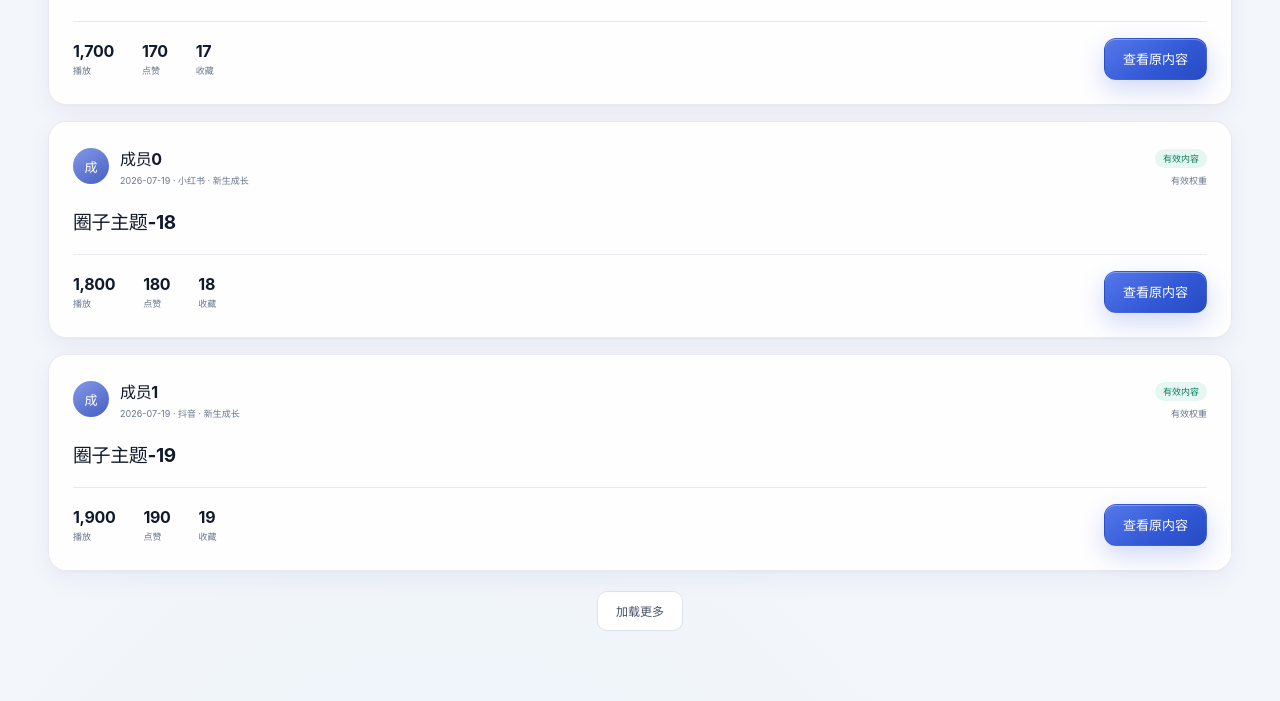
Test: large mocked workflow views › pages through all 120 public circle posts without dropping older content
(page scrolled)
Click the button with class "secondary-button": (640, 611) [597,591,683,631]
(page scrolled)
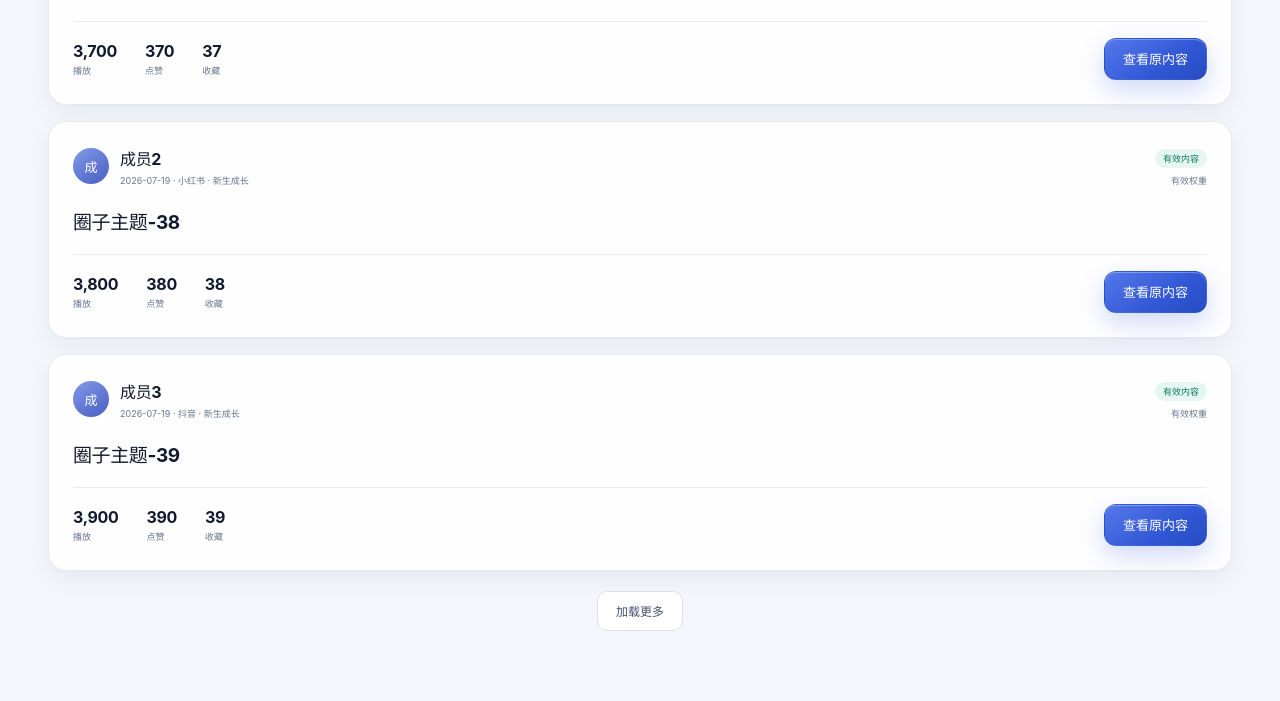
Click the button with class "secondary-button": (640, 611) [597,591,683,631]
(page scrolled)
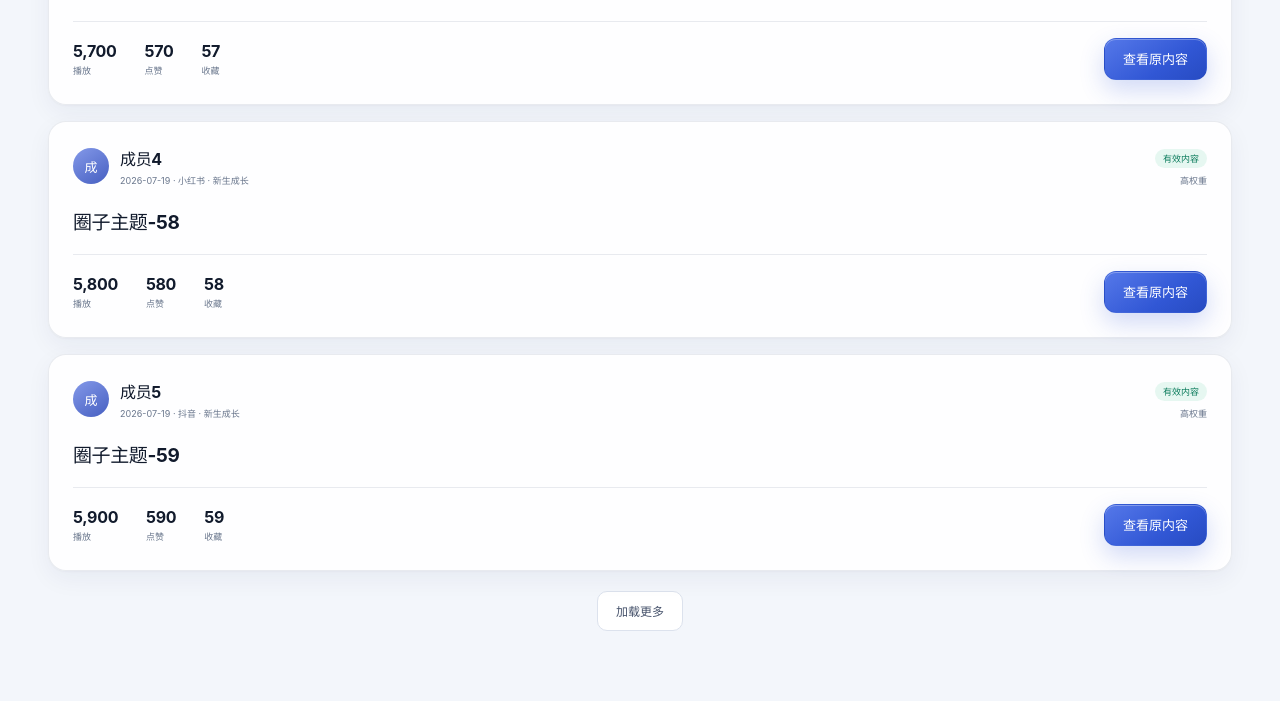
Click the button with class "secondary-button": (640, 611) [597,591,683,631]
(page scrolled)
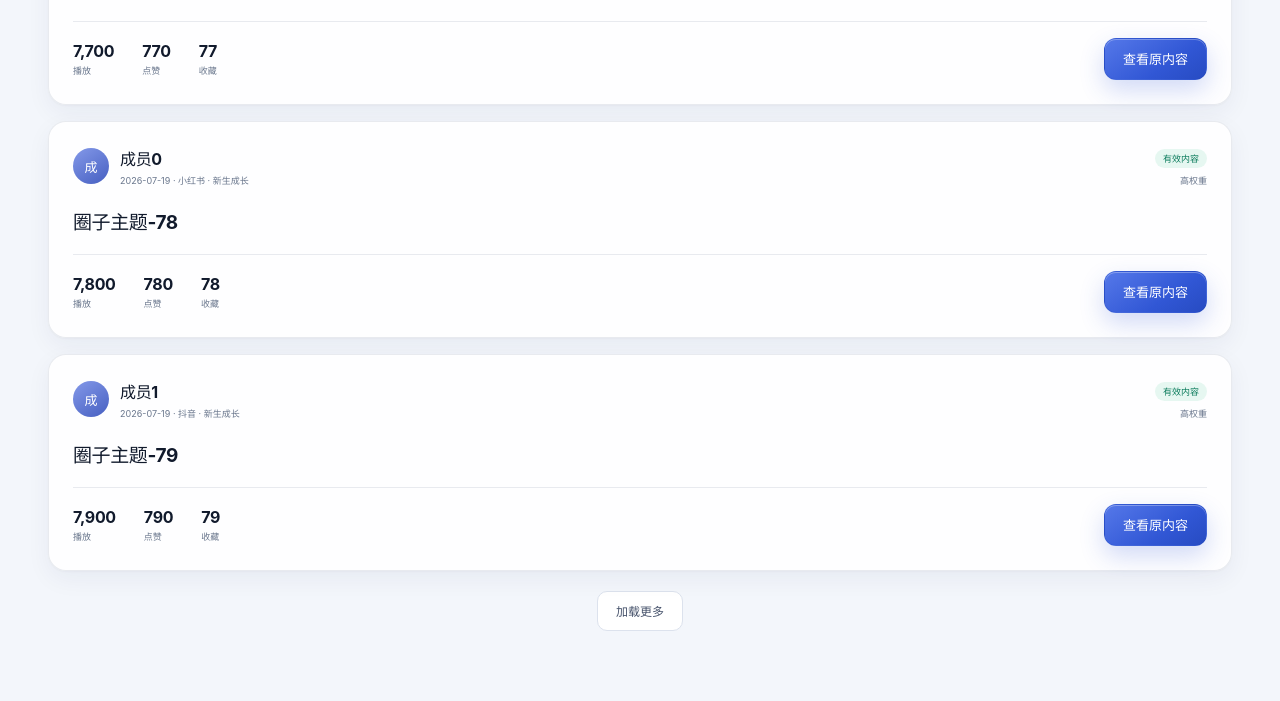
Click the button with class "secondary-button": (640, 611) [597,591,683,631]
(page scrolled)
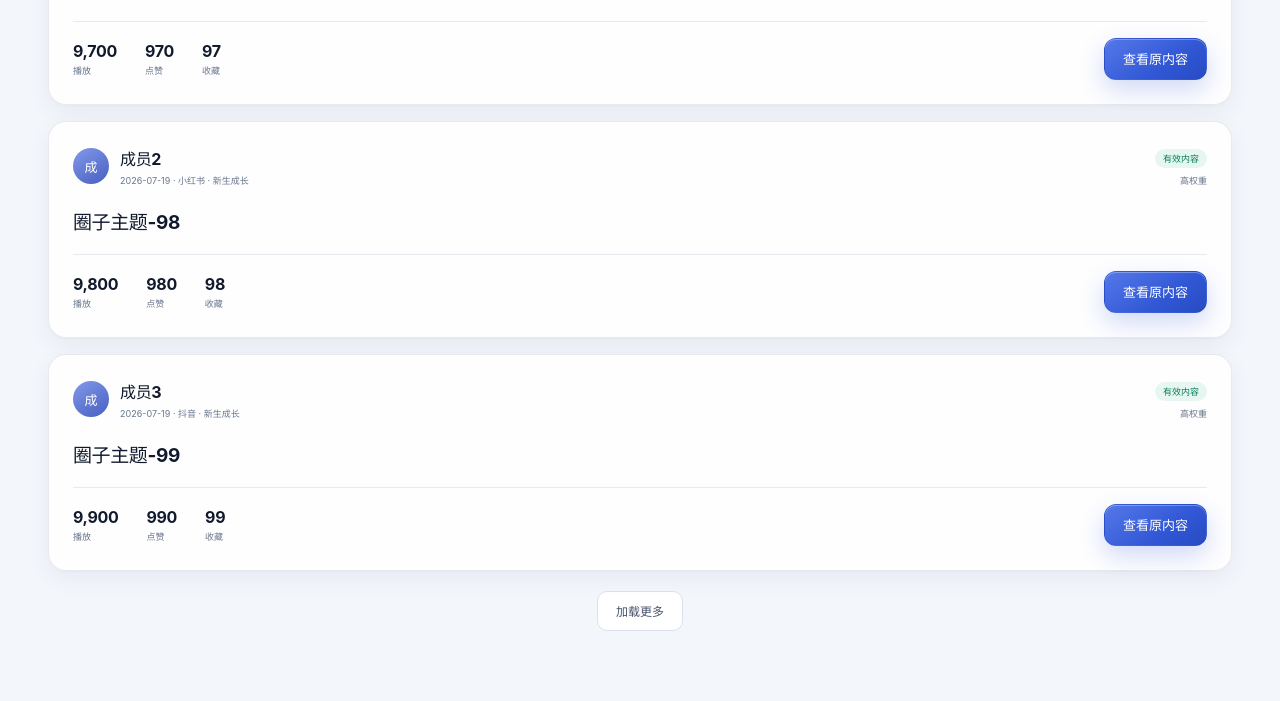
Click the button with class "secondary-button": (640, 611) [597,591,683,631]
(page scrolled)
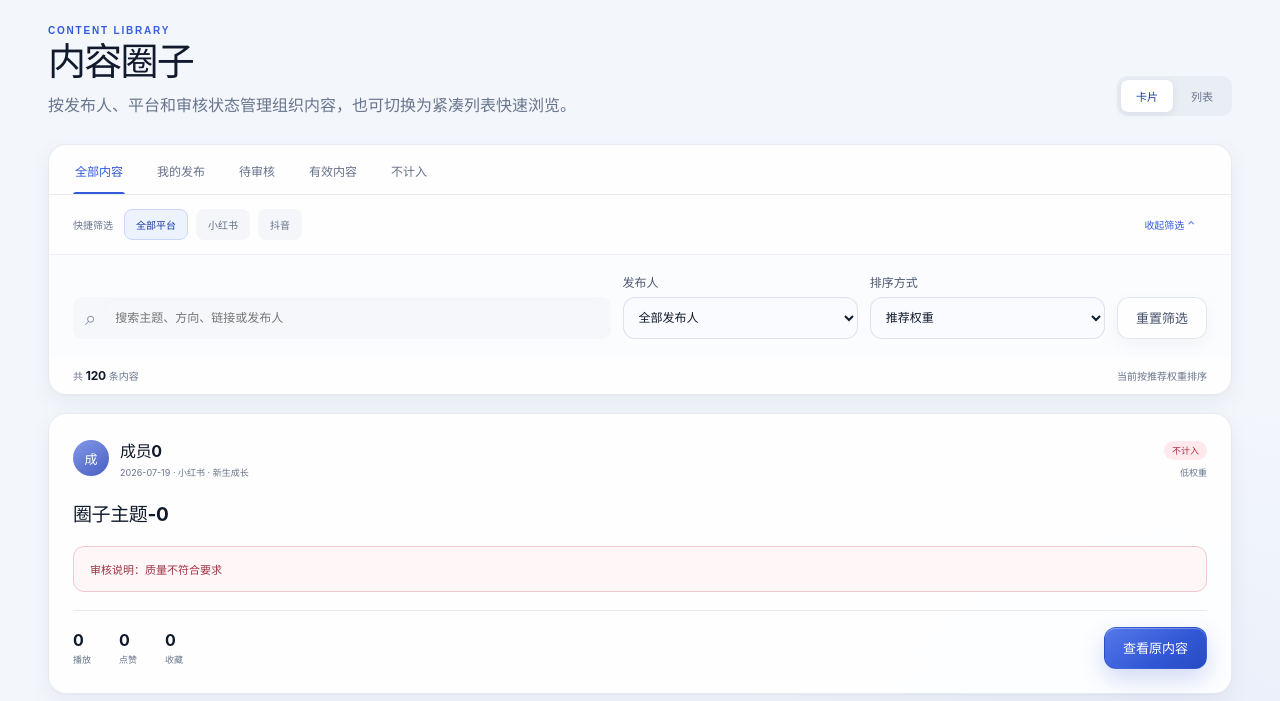
Expected: the element with class "circle-workspace" is shown, [48,144,1232,395]
Result: the number of elements with class "circle-card" is 120
Click the button "列表": (1202, 96) [1176,80,1228,112]
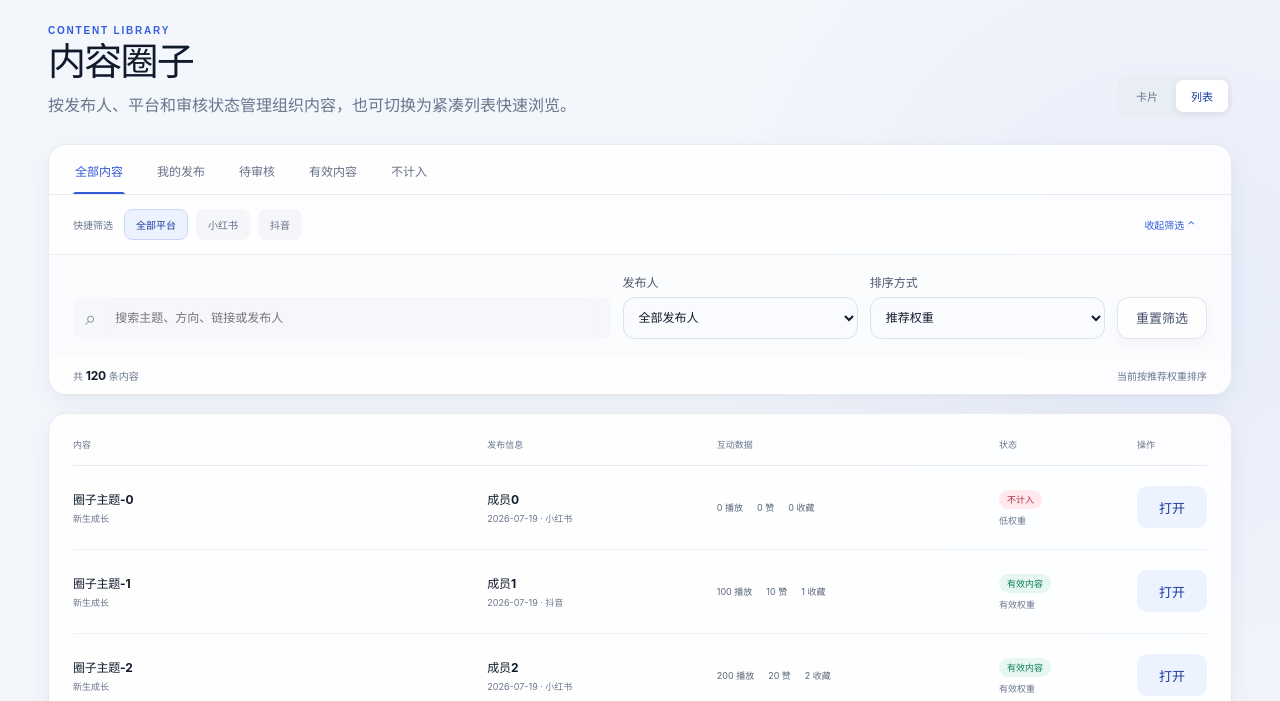
Result: the number of elements with class "circle-list-row" is 120
